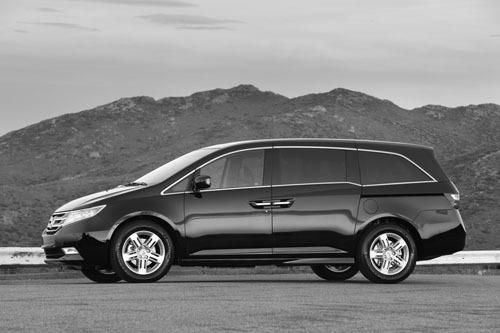car: (42, 138, 469, 286)
